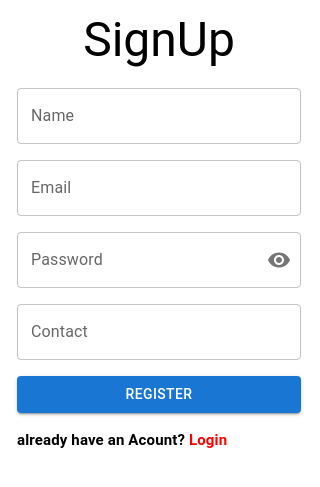
Register Page unit Tests › Testing for the scenario should show error for invalid email format
Type "invalidEmail" into the field labelled "Email".
click(159, 188); type("invalidEmail")  # box left=17, top=160, right=301, bottom=216
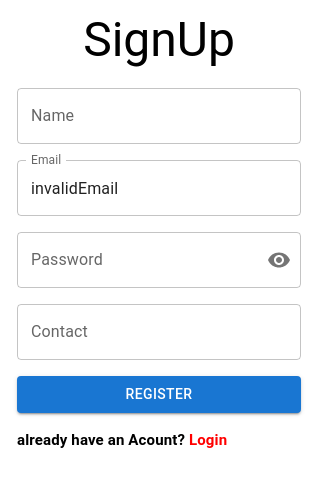
Leave the field labelled "Email", box left=17, top=160, right=301, bottom=216
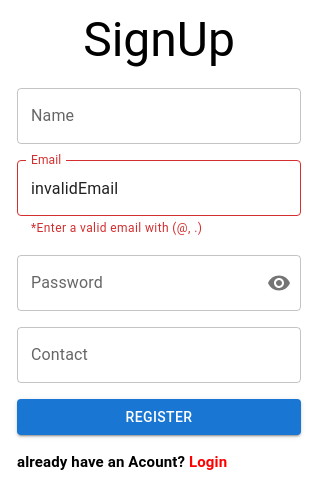
Expected: the text "*Enter a valid email with (@, .)" is shown, left=31, top=221, right=202, bottom=235
